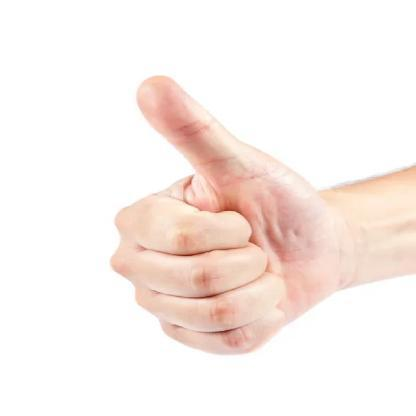thumb_up: (89, 70, 351, 358)
